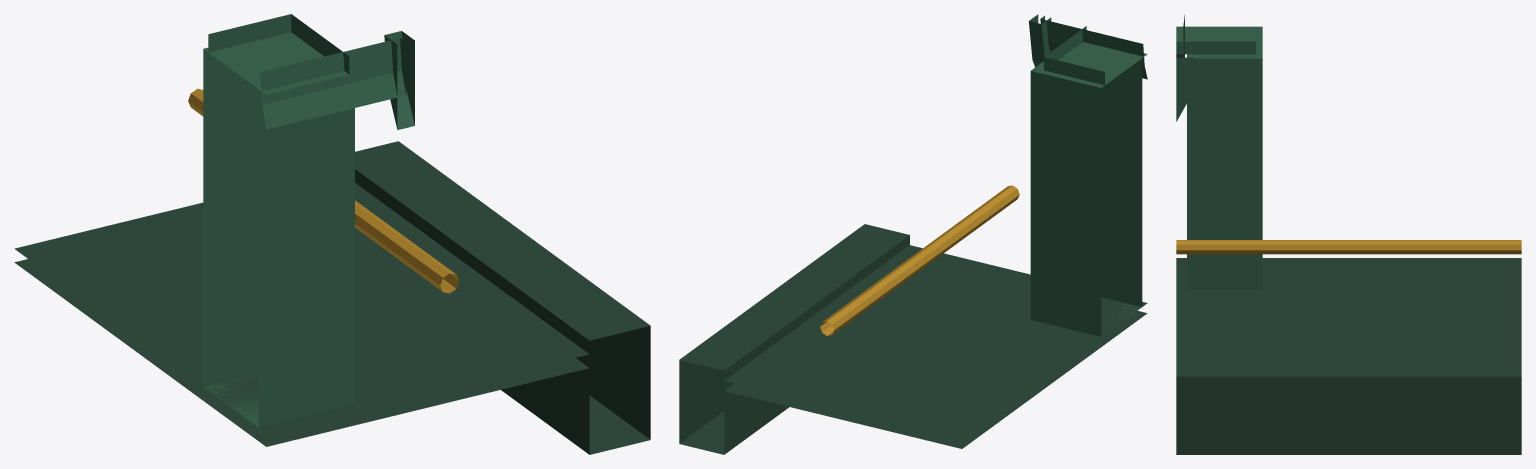
File: cell_13.obj
The picture shows the model from 3 angles, left to right: view 1: azimuth 30°, elevation 25°; view 2: azimuth 150°, elevation 25°; view 3: azimuth 270°, elevation 25°; orthographic projection. The views are drawn at different scales.
Size of the model in its own units: 0.88 by 1 by 1.
